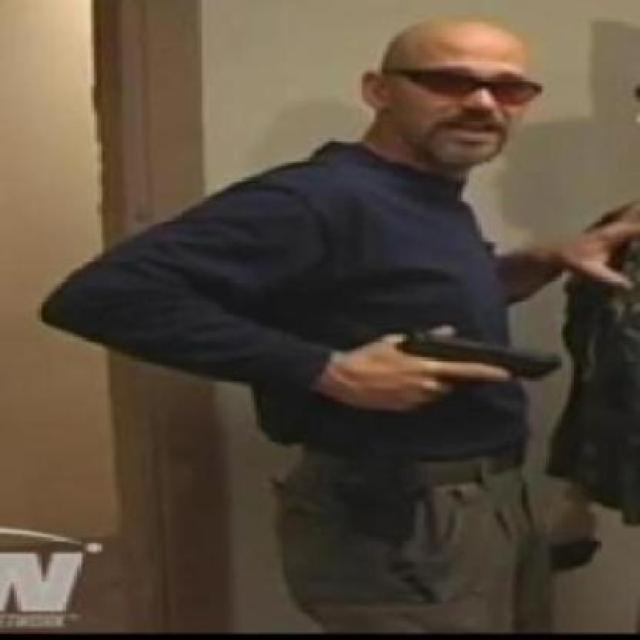gun: (369, 324, 563, 416)
